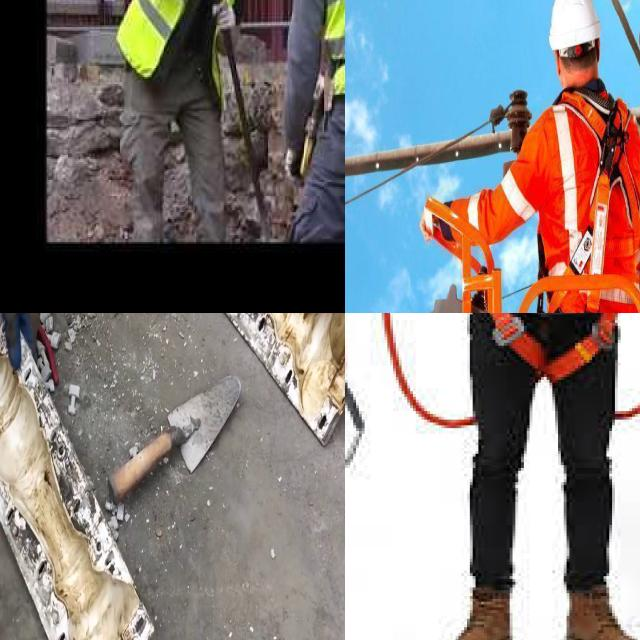Harness: (470, 313, 631, 381)
hand_glove: (0, 313, 36, 371), (208, 0, 240, 41)
head_helmet: (535, 0, 615, 49)
person: (511, 0, 640, 313), (124, 0, 264, 242)
vest: (531, 82, 640, 313), (118, 0, 201, 77)
